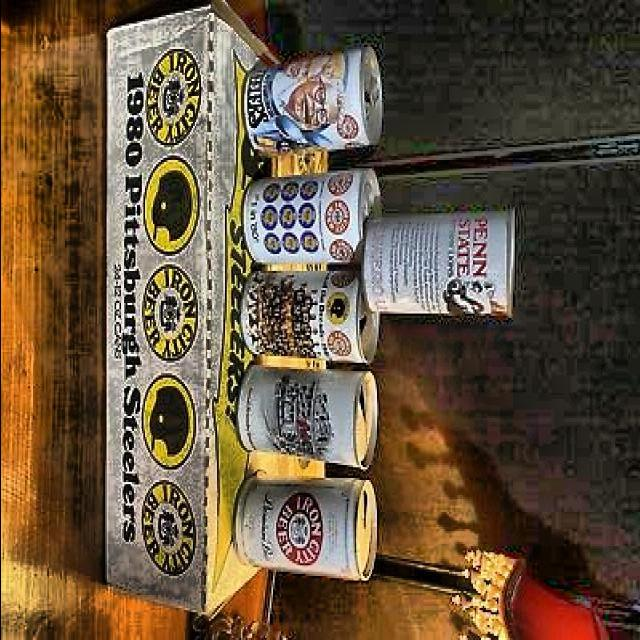Aluminum Can: (362, 202, 521, 322), (228, 360, 381, 475), (238, 161, 386, 275), (238, 48, 390, 159), (228, 477, 382, 583), (235, 270, 386, 370)
